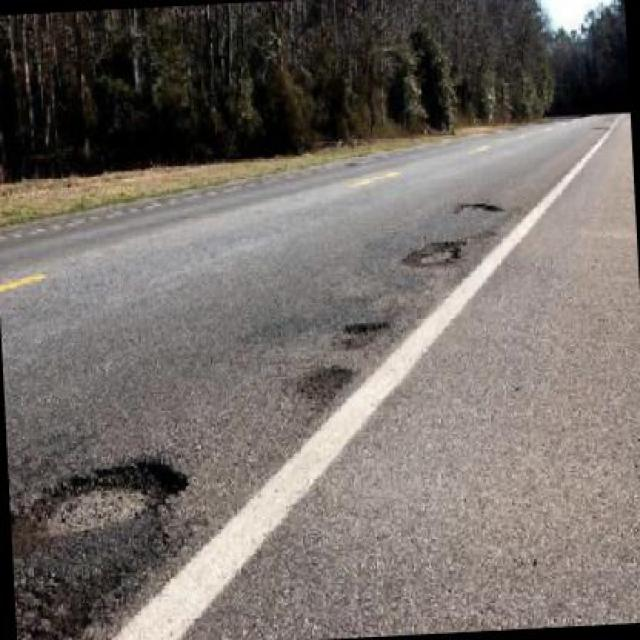pothole: (28, 455, 189, 543), (290, 362, 353, 409), (398, 238, 464, 273), (336, 316, 392, 349), (448, 197, 501, 218)
